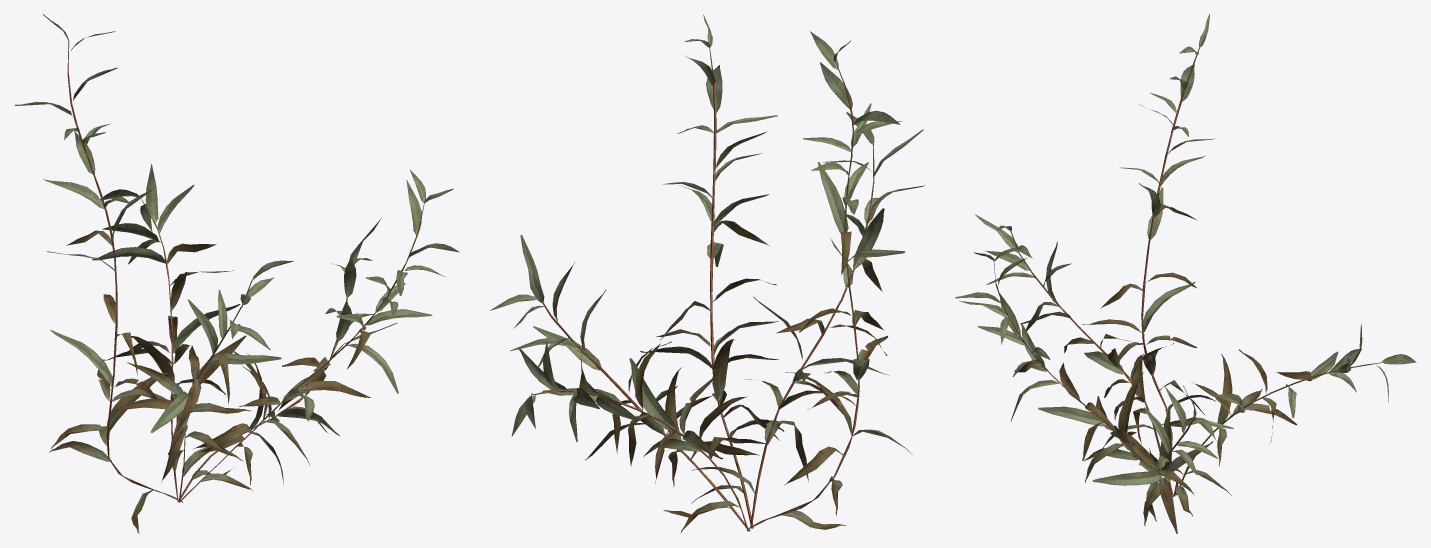
File: distance.fbx
3 views of the same model, side by side, from view 1: azimuth 30°, elevation 25°; view 2: azimuth 150°, elevation 25°; view 3: azimuth 270°, elevation 25° (orthographic). The views are drawn at different scales.
Visible parts, largest first — view 1: shrub_02_a; view 2: shrub_02_a; view 3: shrub_02_a.
Part boxes in pixels (x1,y1,x2,y2): shrub_02_a: (14, 14, 459, 533); shrub_02_a: (490, 14, 925, 533); shrub_02_a: (955, 14, 1416, 533).
Bounding box in the file's own units: 131 × 169 × 163.
